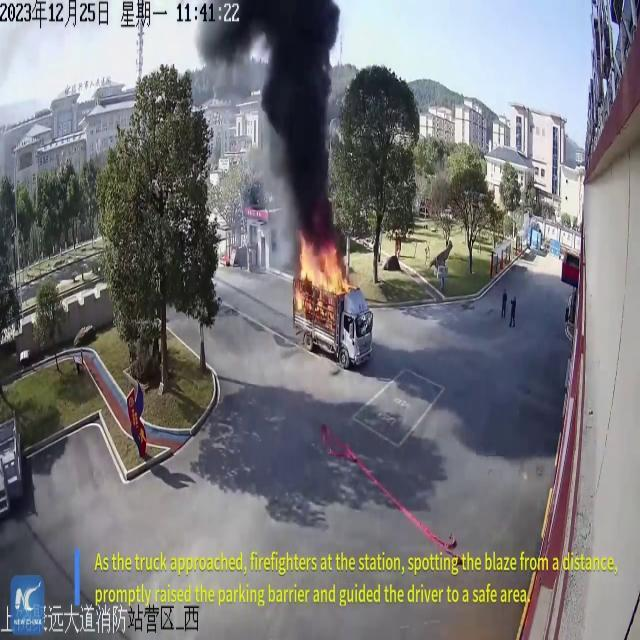Fire: (294, 234, 352, 314)
Smoke: (254, 0, 346, 241)
